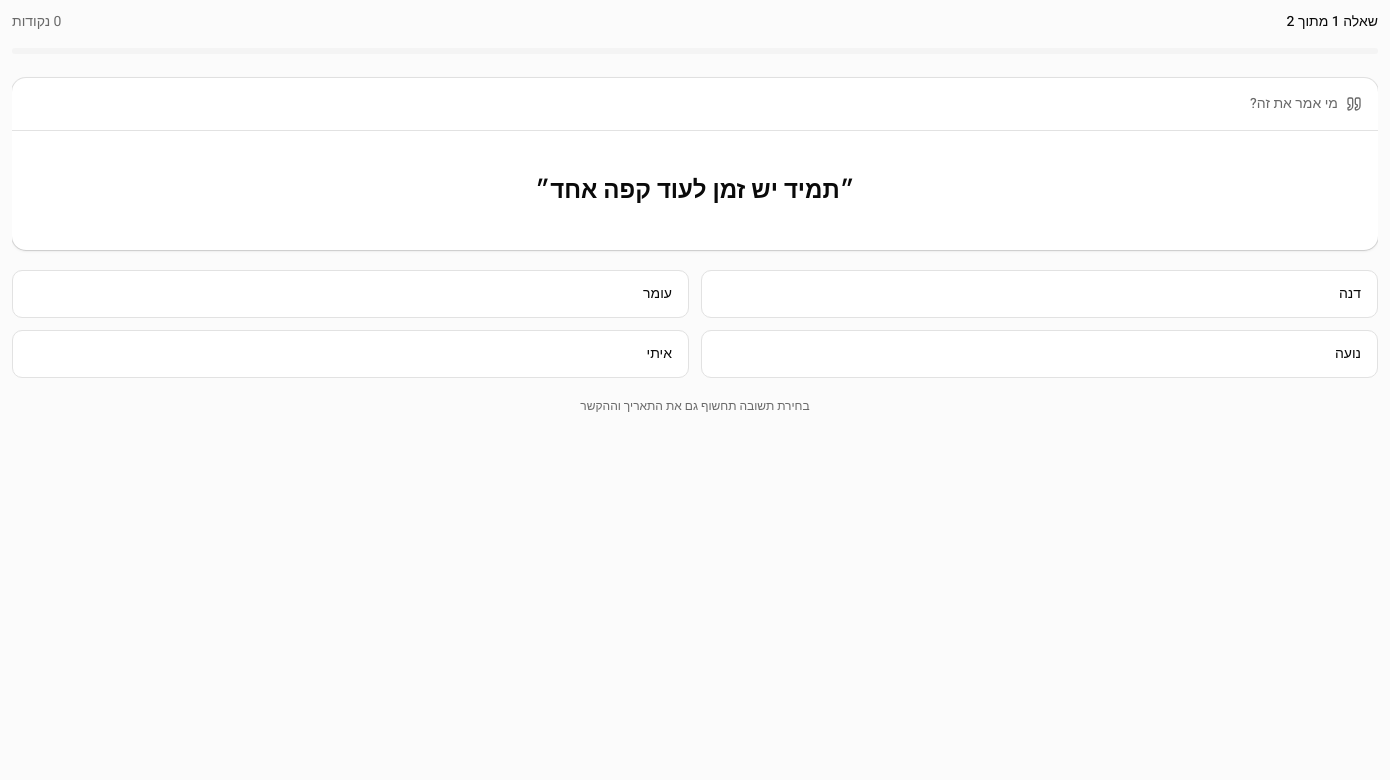
WhoSaidItGame › marks a wrong choice, reveals the answer, and advances
This screenshot has width=1390, height=780.
Click the button "עומר" at (658, 294), box top-left (12, 270), bottom-right (689, 318)
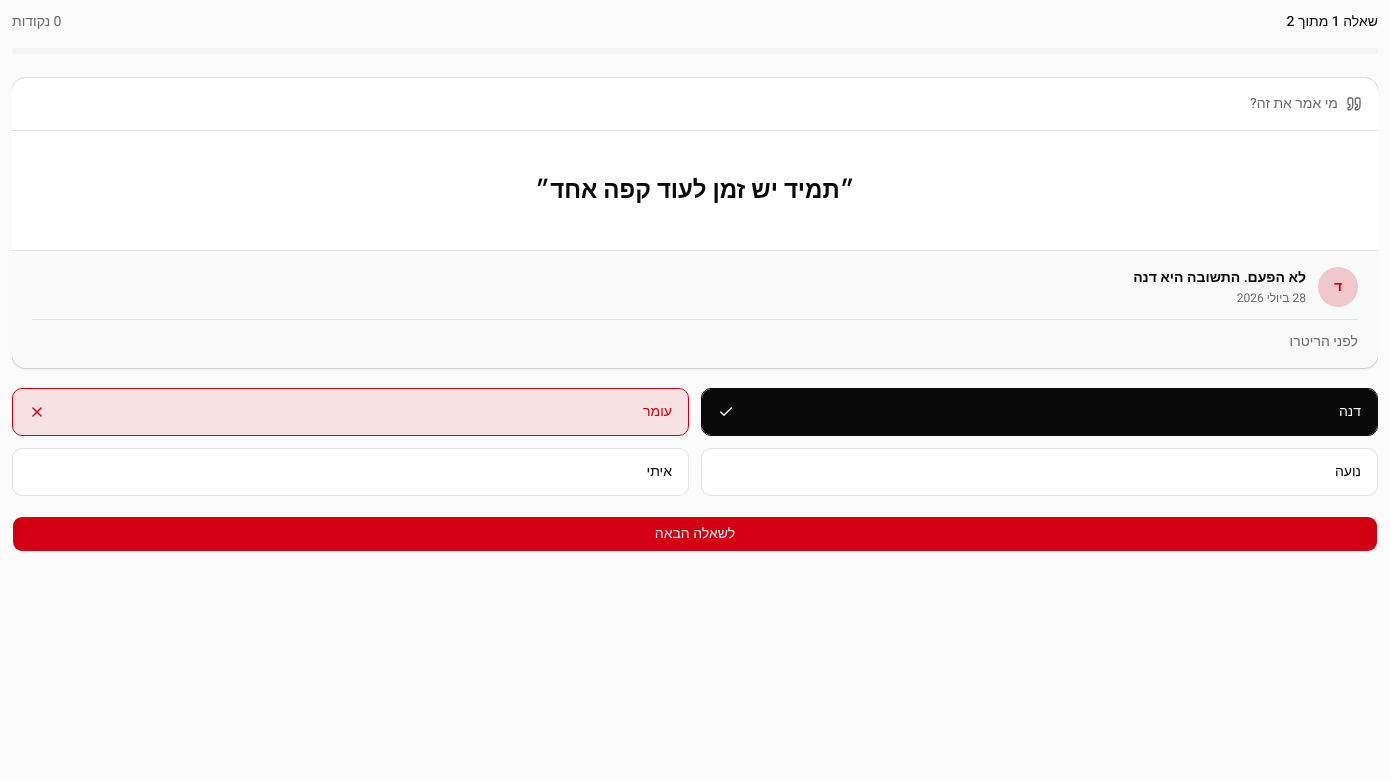
Expected: the button "עומר" is disabled, top-left (12, 388), bottom-right (689, 436)
Expected: the button "דנה" is disabled, top-left (701, 388), bottom-right (1378, 436)
Expected: the text "לא הפעם. התשובה היא דנה" is shown, top-left (1133, 268), bottom-right (1306, 288)
Click the button "לשאלה הבאה" at (695, 534), box top-left (12, 516), bottom-right (1378, 552)
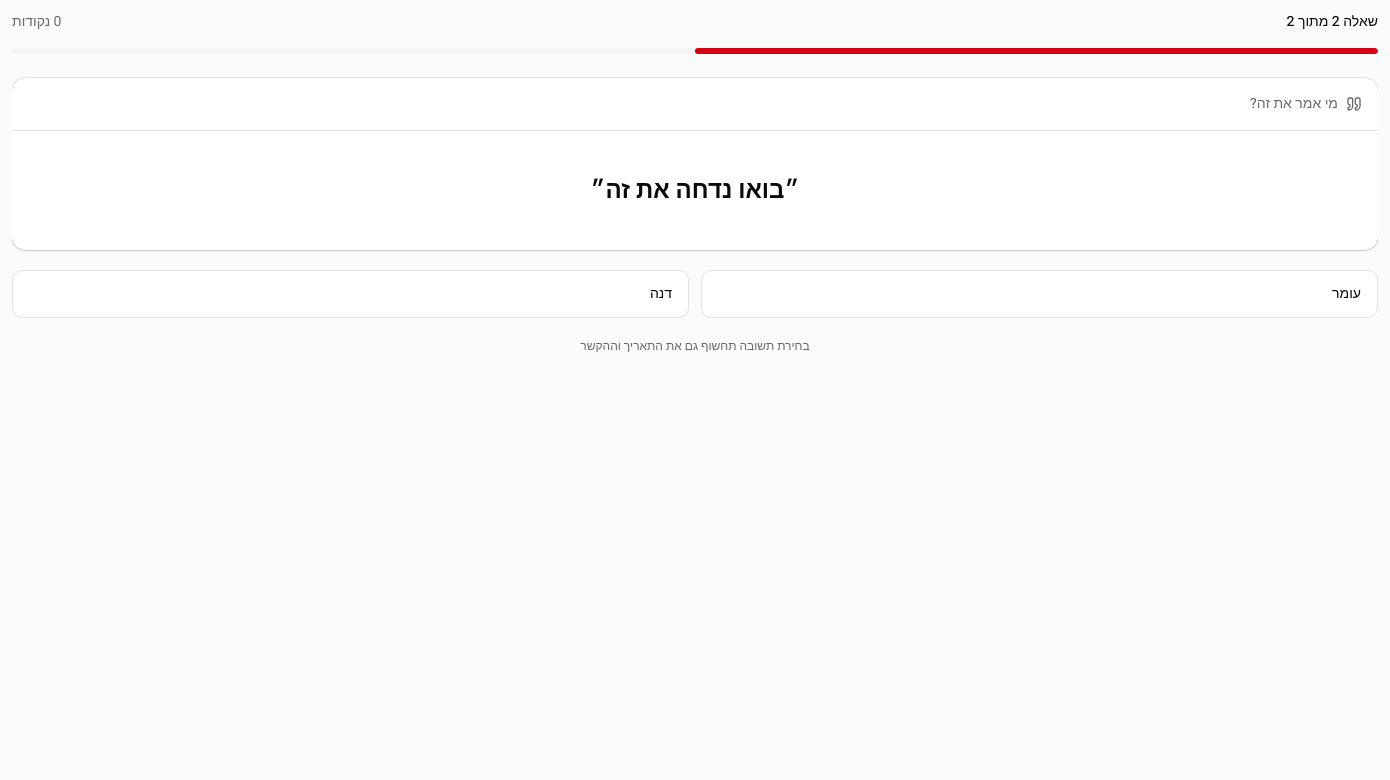
Expected: the text "שאלה 2 מתוך 2" is shown, top-left (1286, 12), bottom-right (1378, 32)
